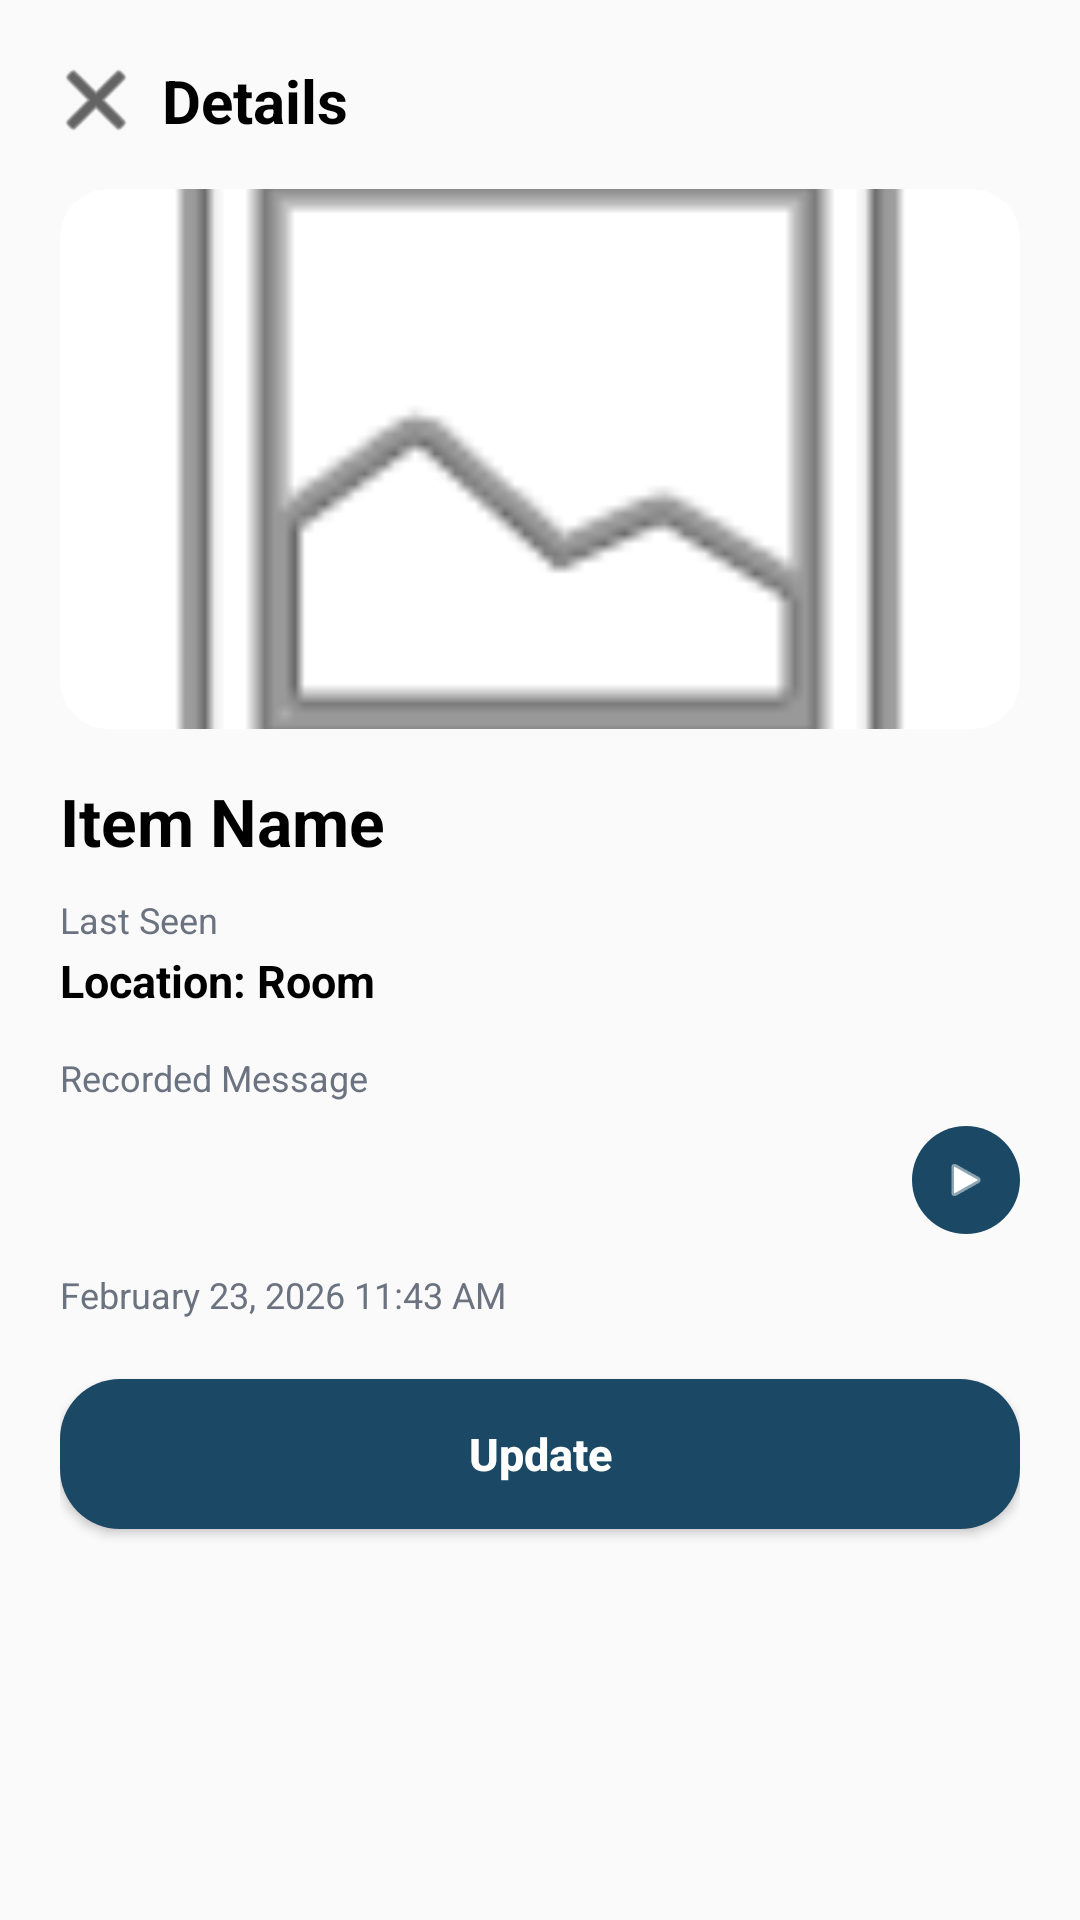

Where to tap for icons on this 1080x1920 app screen, as point (x, y):
Close: point (96, 100)
Play recorded message: point (966, 1180)
